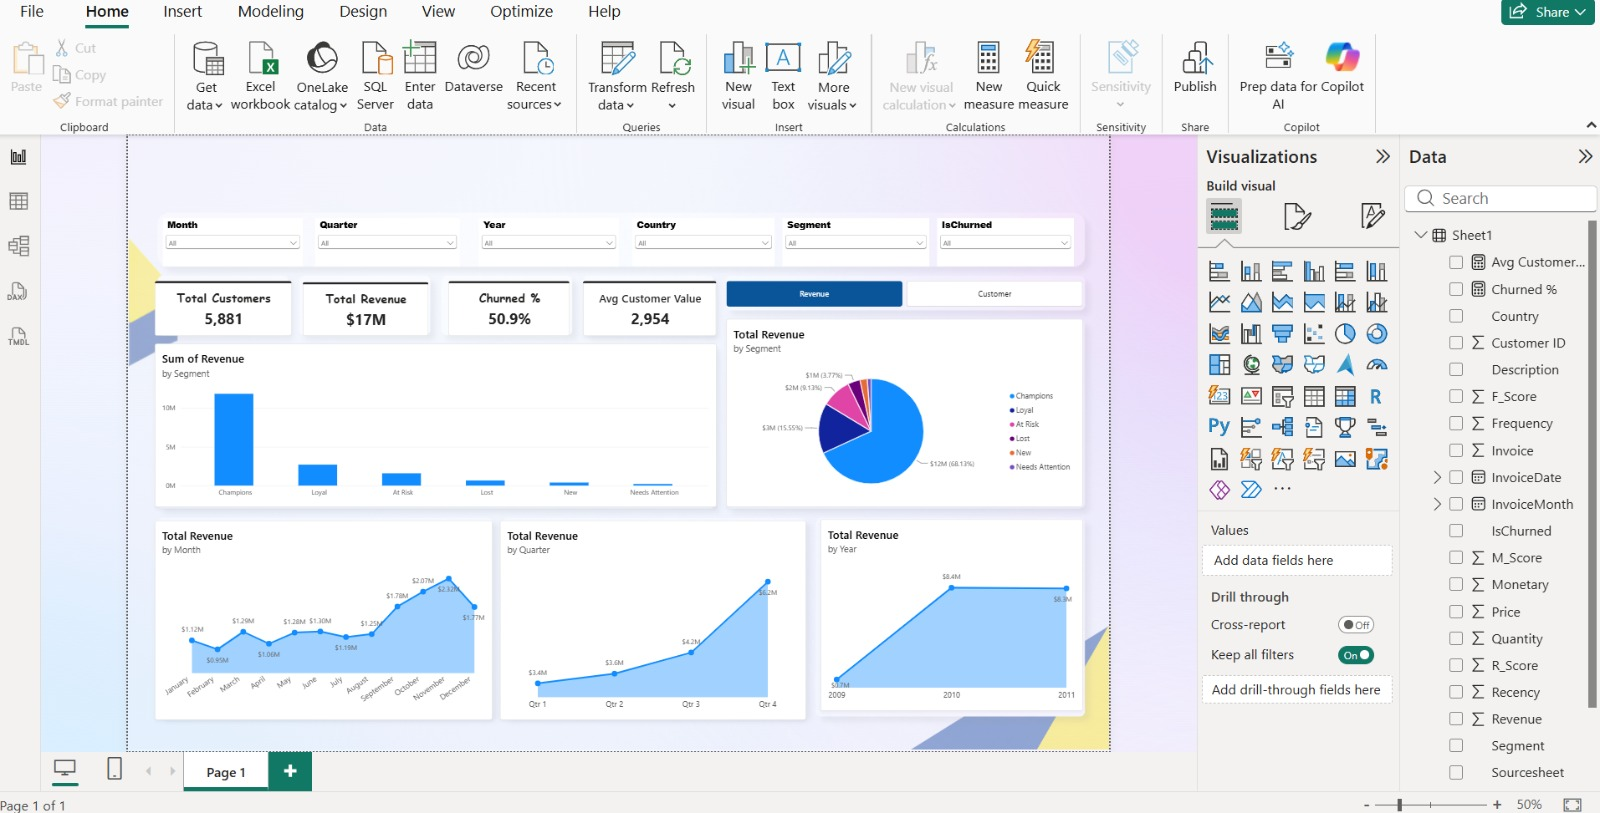

This screenshot's page, from the dashboard's own definition file:
{"tool":"powerbi","page":{"name":"Page 1","canvas":[1750,1100],"ordinal":0},"visuals":[{"type":"cardVisual","fields":{"Data":["Sheet1.Total Revenue"]},"box":[312,262,224,96],"z":0},{"type":"columnChart","fields":{"Category":["Sheet1.Segment"],"Y":["Sum(Sheet1.Revenue)"]},"box":[48,372,1002,292],"z":0,"group":"g1"},{"type":"cardVisual","fields":{"Data":["Sheet1.Churned %"]},"box":[572,260,216,98],"z":1000},{"type":"pieChart","fields":{"Category":["Sheet1.Segment"],"Y":["Sheet1.Total Revenue"]},"box":[1068,328,636,336],"z":1000,"group":"g1"},{"type":"cardVisual","fields":{"Data":["Sheet1.Avg Customer Value"]},"box":[812,260,238,98],"z":2000},{"type":"areaChart","fields":{"Category":["Sheet1.InvoiceDate.Variation.Date Hierarchy.Month"],"Y":["Sheet1.Total Revenue"]},"box":[48,688,602,356],"z":2000,"group":"g1"},{"type":"cardVisual","fields":{"Data":["Sheet1.Total Customers"]},"box":[48,260,244,98],"z":3000},{"type":"areaChart","fields":{"Category":["Sheet1.InvoiceDate.Variation.Date Hierarchy.Quarter"],"Y":["Sheet1.Total Revenue"]},"box":[664,688,546,356],"z":3000,"group":"g1"},{"type":"slicer","fields":{"Values":["Sheet1.InvoiceDate.Variation.Date Hierarchy.Month"]},"box":[62,148,250,86],"z":4000},{"type":"areaChart","fields":{"Category":["Sheet1.InvoiceDate.Variation.Date Hierarchy.Year"],"Y":["Sheet1.Total Revenue"]},"box":[1236,686,468,342],"z":4000,"group":"g1"},{"type":"slicer","fields":{"Values":["Sheet1.InvoiceDate.Variation.Date Hierarchy.Quarter"]},"box":[334,148,258,86],"z":5000},{"type":"slicer","fields":{"Values":["Sheet1.InvoiceDate.Variation.Date Hierarchy.Year"]},"box":[626,148,250,86],"z":6000},{"type":"slicer","fields":{"Values":["Sheet1.Country"]},"box":[900,148,254,86],"z":7000},{"type":"slicer","fields":{"Values":["Sheet1.Segment"]},"box":[1168,148,262,86],"z":8000},{"type":"slicer","fields":{"Values":["Sheet1.IsChurned"]},"box":[1444,148,244,86],"z":9000},{"type":"bookmarkNavigator","box":[1068,260,636,46],"z":10000},{"type":"group","id":"g1","title":"Revenue","box":[48,328,1656,716],"z":12000}]}

Visuals, with their boxes on the page's 1750x1100 design canvas (x1, y1, x2, y2). These are canvas units, not pixel positions in the 1600x813 screenshot, which may show the page scaled, cropped or inside an application window:
cardVisual - Sheet1.Total Revenue: select_region(312, 262, 536, 358)
columnChart - Sheet1.Segment x Sum(Sheet1.Revenue): select_region(48, 372, 1050, 664)
cardVisual - Sheet1.Churned %: select_region(572, 260, 788, 358)
pieChart - Sheet1.Segment x Sheet1.Total Revenue: select_region(1068, 328, 1704, 664)
cardVisual - Sheet1.Avg Customer Value: select_region(812, 260, 1050, 358)
areaChart - Sheet1.InvoiceDate.Variation.Date Hierarchy.Month x Sheet1.Total Revenue: select_region(48, 688, 650, 1044)
cardVisual - Sheet1.Total Customers: select_region(48, 260, 292, 358)
areaChart - Sheet1.InvoiceDate.Variation.Date Hierarchy.Quarter x Sheet1.Total Revenue: select_region(664, 688, 1210, 1044)
slicer - Sheet1.InvoiceDate.Variation.Date Hierarchy.Month: select_region(62, 148, 312, 234)
areaChart - Sheet1.InvoiceDate.Variation.Date Hierarchy.Year x Sheet1.Total Revenue: select_region(1236, 686, 1704, 1028)
slicer - Sheet1.InvoiceDate.Variation.Date Hierarchy.Quarter: select_region(334, 148, 592, 234)
slicer - Sheet1.InvoiceDate.Variation.Date Hierarchy.Year: select_region(626, 148, 876, 234)
slicer - Sheet1.Country: select_region(900, 148, 1154, 234)
slicer - Sheet1.Segment: select_region(1168, 148, 1430, 234)
slicer - Sheet1.IsChurned: select_region(1444, 148, 1688, 234)
bookmarkNavigator: select_region(1068, 260, 1704, 306)
"Revenue" group: select_region(48, 328, 1704, 1044)
